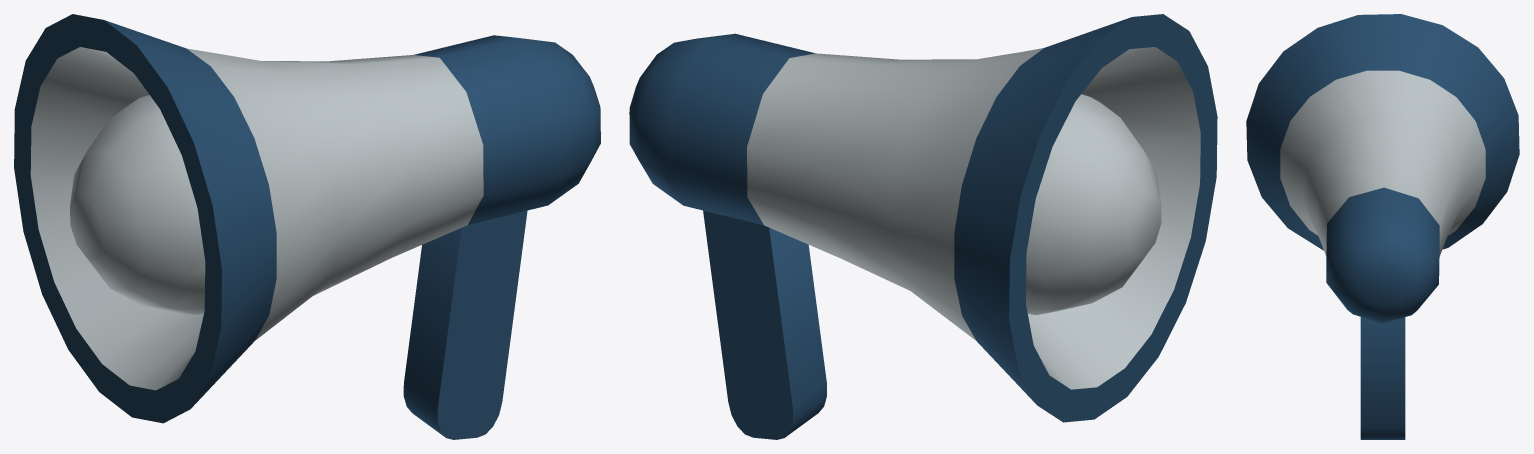
Rendered from Shout.fbx.
3 views of the same model, side by side, from view 1: azimuth 30°, elevation 25°; view 2: azimuth 150°, elevation 25°; view 3: azimuth 270°, elevation 25° (orthographic). The views are drawn at different scales.
Parts seen in each view (by area): view 1: Shout; view 2: Shout; view 3: Shout.
Part boxes in pixels (x1,y1,x2,y2): Shout: [14, 14, 600, 439]; Shout: [629, 14, 1217, 439]; Shout: [1246, 14, 1519, 439].
Size of the model in its own units: 0.8289 by 0.7611 by 0.5995.
